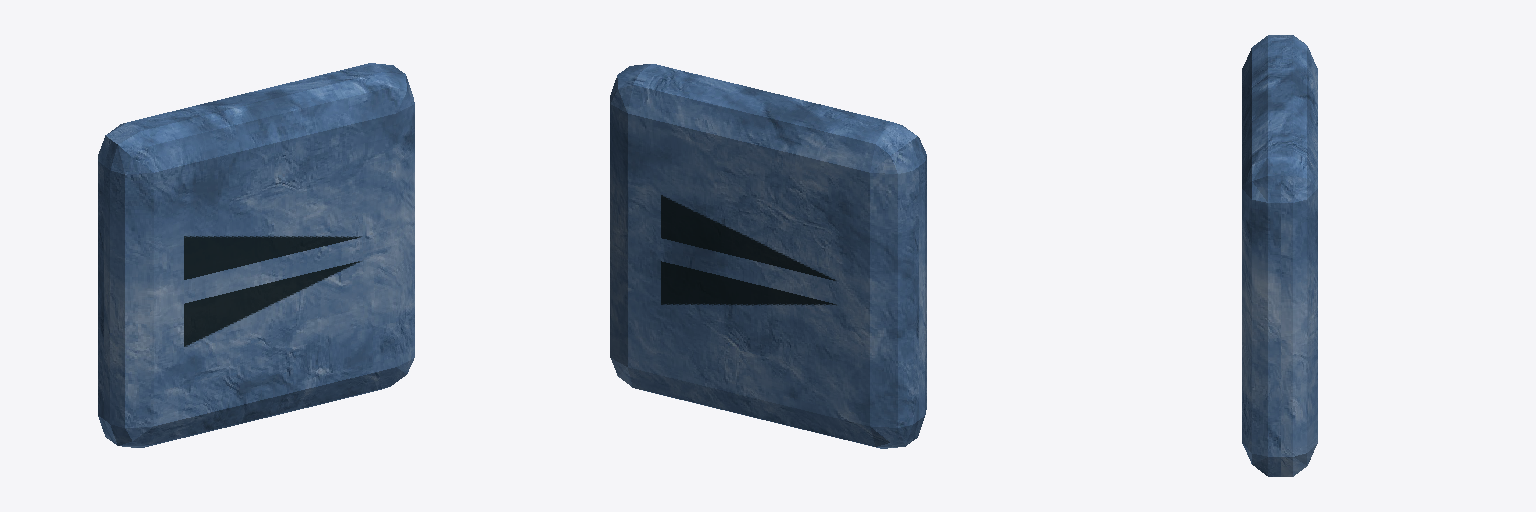
3 views of the same model, side by side, from view 1: azimuth 30°, elevation 25°; view 2: azimuth 150°, elevation 25°; view 3: azimuth 270°, elevation 25° (orthographic).
Parts seen in each view (by area): view 1: Cube; view 2: Cube; view 3: Cube.
Part boxes in pixels (left/top/right/bottom): Cube: left=98, top=63, right=414, bottom=447; Cube: left=610, top=64, right=926, bottom=448; Cube: left=1242, top=35, right=1317, bottom=476.
Size of the model in its own units: 1 by 1 by 0.2182.
Materials: 1 (1 with a texture image).